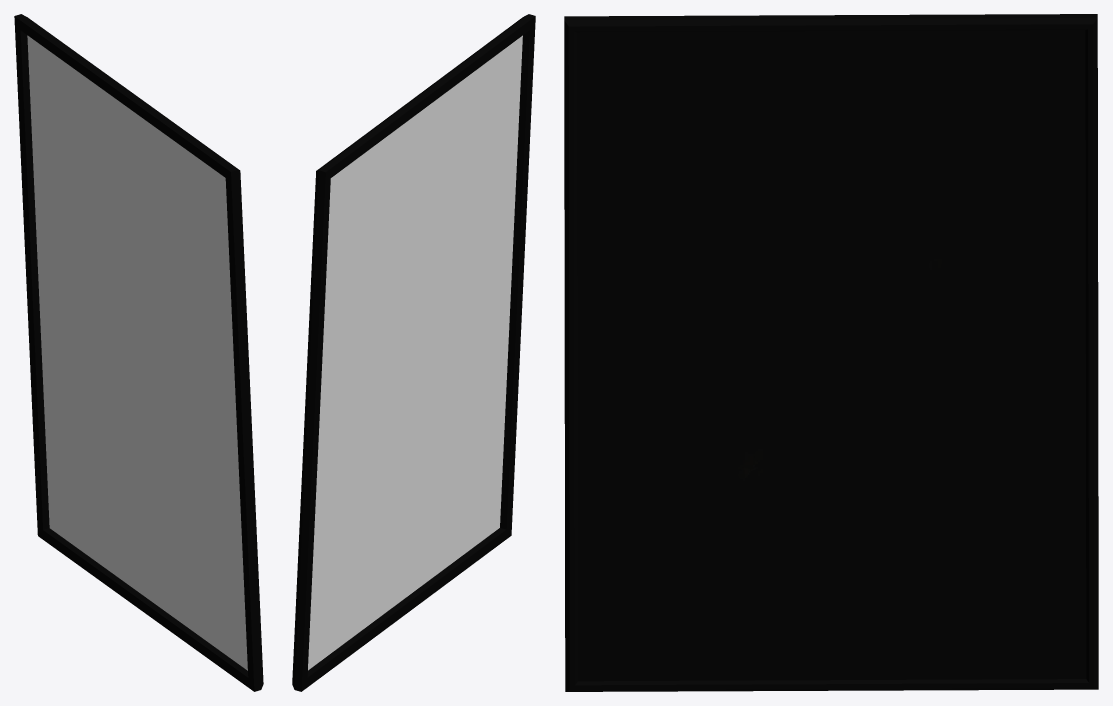
Rendered from poster2.glb.
3 renders of one model, left to right at view 1: azimuth 30°, elevation 25°; view 2: azimuth 150°, elevation 25°; view 3: azimuth 270°, elevation 25°, orthographic. The views are drawn at different scales.
Parts seen in each view (by area): view 1: Cube.004, Plane.006; view 2: Cube.004, Plane.006; view 3: Plane.007, Plane.006.
Part boxes in pixels (x1,y1,x2,y2): Cube.004: (27,35,247,670); Plane.006: (14,14,263,691); Cube.004: (308,35,522,670); Plane.006: (292,14,535,691); Plane.007: (576,30,1086,681); Plane.006: (564,14,1098,691).
Bounding box in the file's own units: 0.158 × 2.1 × 1.54.
3 materials, 1 textured.
